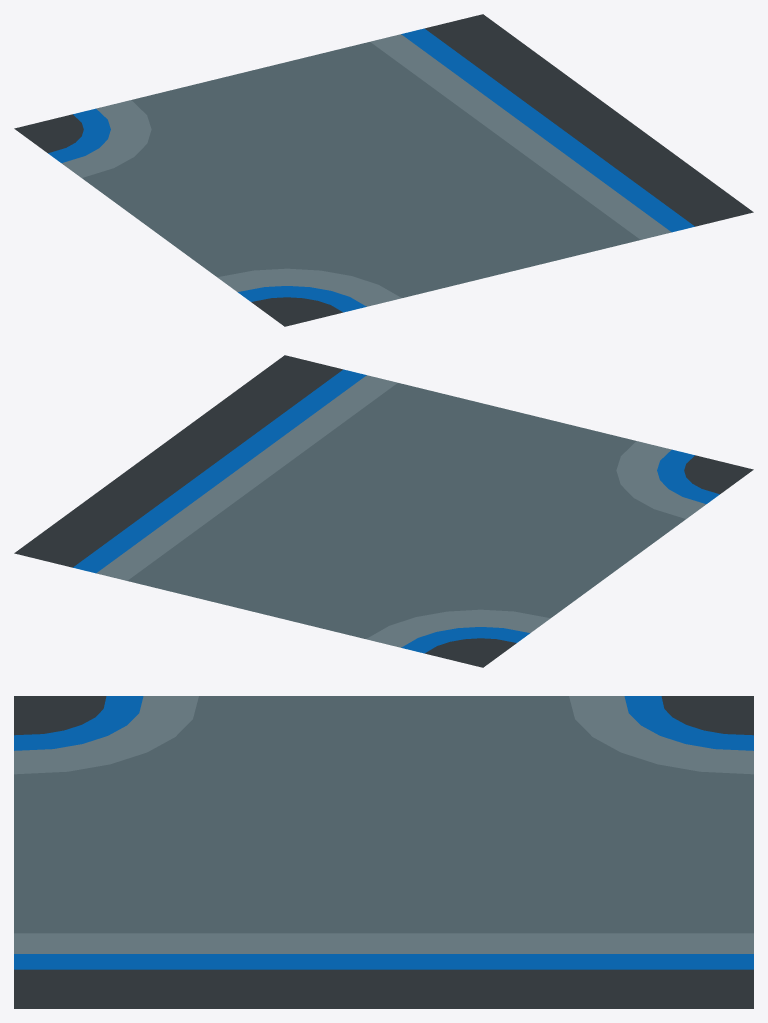
The model's file is Ceiling_type_C_011.012.fbx.
3 renders of one model, top to bottom at view 1: azimuth 30°, elevation 25°; view 2: azimuth 150°, elevation 25°; view 3: azimuth 270°, elevation 25°, orthographic. The views are drawn at different scales.
Parts seen in each view (by area): view 1: Ceiling_type_C_011.012; view 2: Ceiling_type_C_011.012; view 3: Ceiling_type_C_011.012.
Part boxes in pixels (x1,y1,x2,y2): Ceiling_type_C_011.012: (14,14,753,326); Ceiling_type_C_011.012: (14,355,753,667); Ceiling_type_C_011.012: (14,696,753,1008).
Bounding box in the file's own units: 400 × 400 × 5.66.
